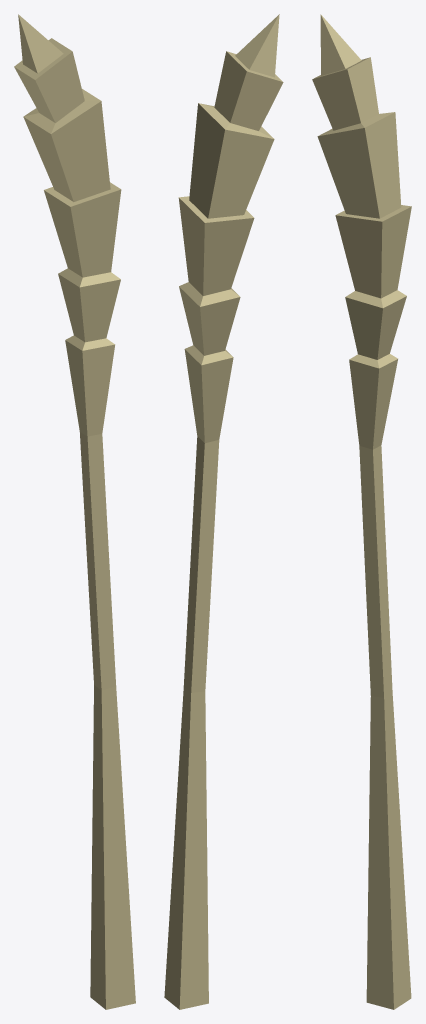
File: wheat_4.glb
3 views of the same model, side by side, from view 1: azimuth 30°, elevation 25°; view 2: azimuth 210°, elevation 25°; view 3: azimuth 330°, elevation 25° (orthographic). The views are drawn at different scales.
Visible parts, largest first — view 1: Wheat_4_Cube.032; view 2: Wheat_4_Cube.032; view 3: Wheat_4_Cube.032.
Boxes of the visible parts, box(x1,y1,x2,y2) form: Wheat_4_Cube.032: box(14, 14, 135, 1009); Wheat_4_Cube.032: box(164, 14, 283, 1009); Wheat_4_Cube.032: box(312, 14, 411, 1009).
Bounding box in the file's own units: 0.0978 × 0.948 × 0.0559.
